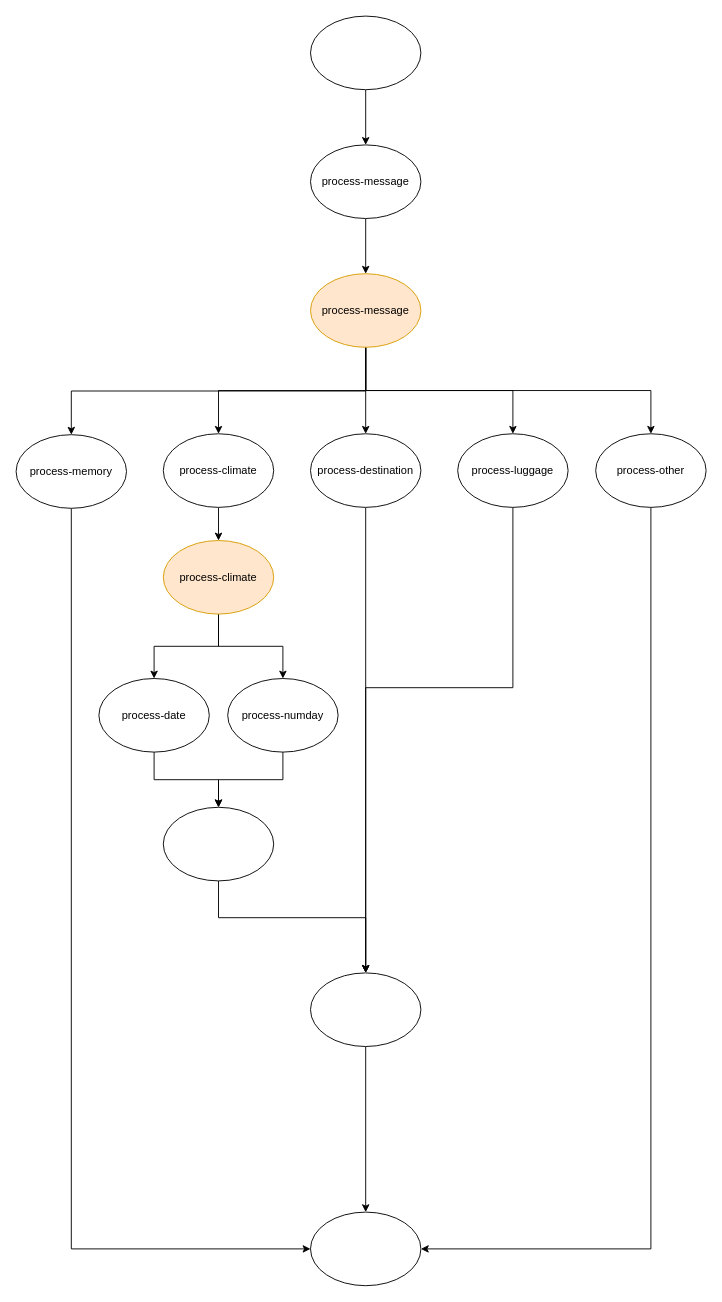
Some shapes in this 722 by 1302 pixel diagram are drawn without their labels. The box of each missing label's shape, as (x1, y1, x2, y2) in pixels:
END: (310, 1211, 421, 1286)
process-climate-api: (162, 806, 274, 881)
process-response: (310, 972, 421, 1046)
START: (310, 15, 421, 90)
